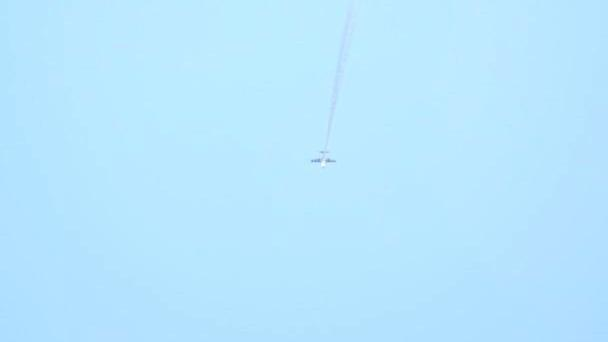Plane: (298, 146, 347, 174)
